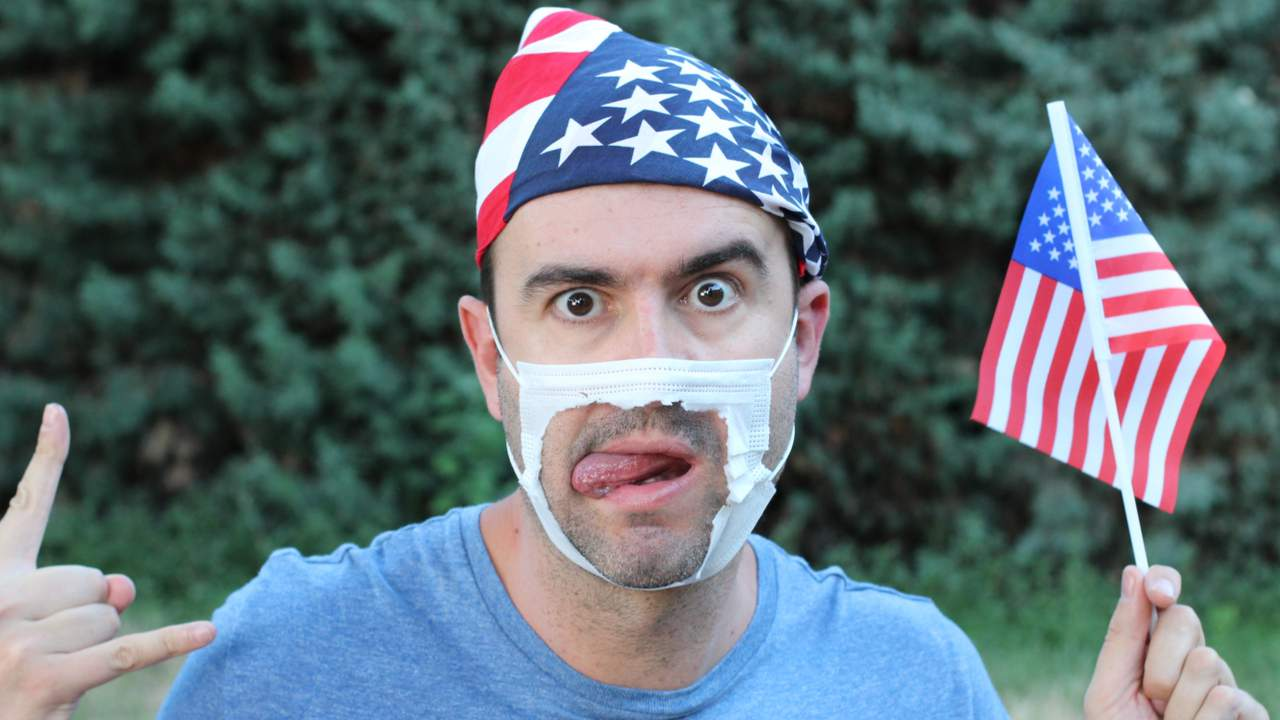with_incorrect_mask: (504, 202, 786, 583)
